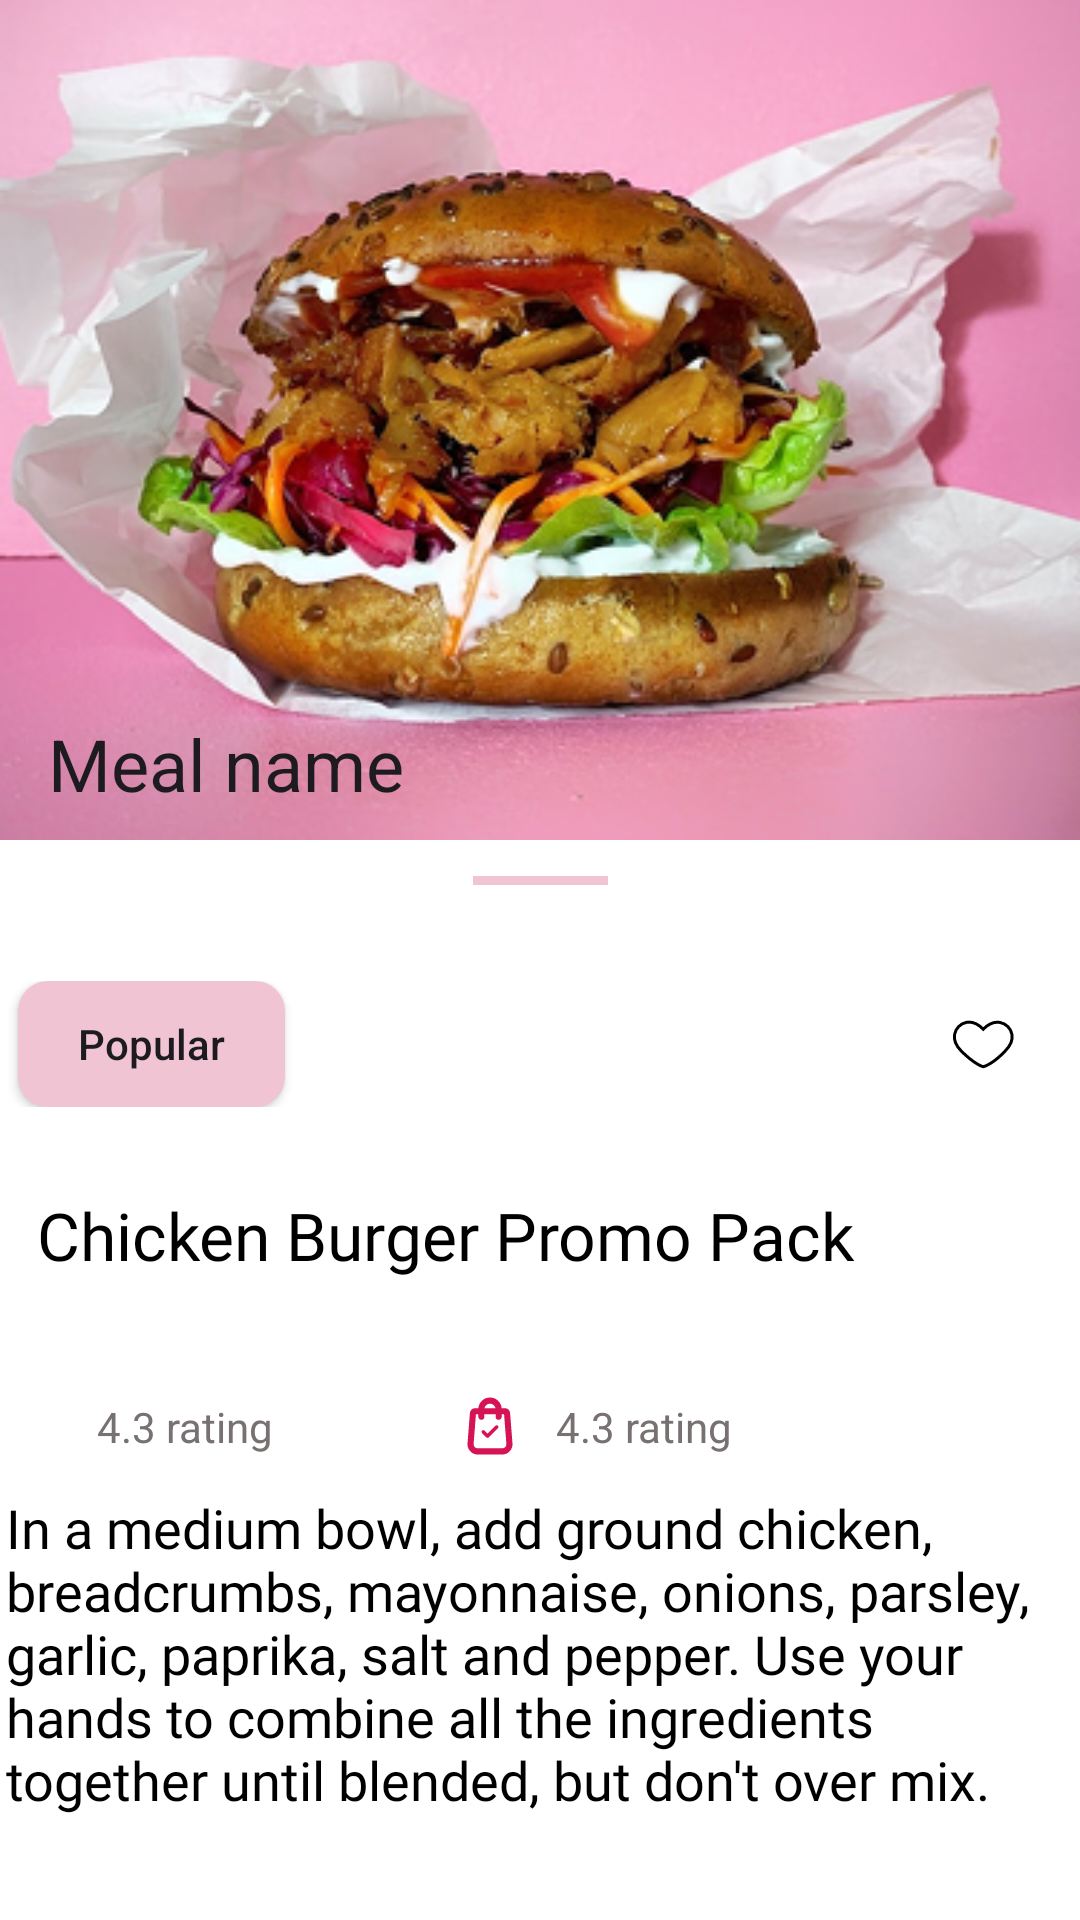

Locate icon controls on the screen. Image size 1080x1920, boxes as bbox=[x1, y1, x2, y2].
fav: bbox=[953, 1020, 1014, 1069]
